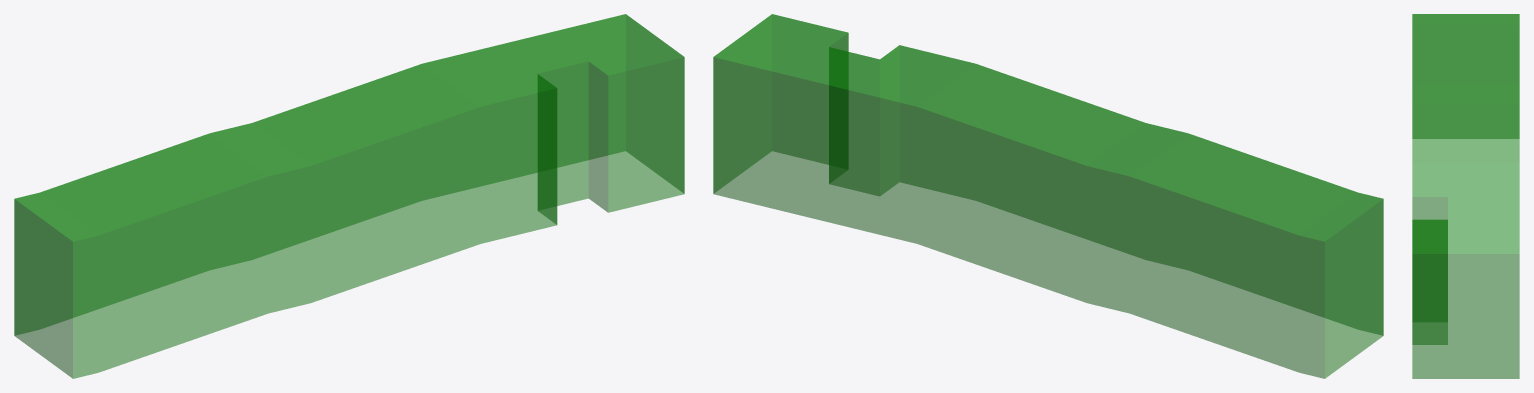
File: air_wall1.obj
3 renders of one model, left to right at view 1: azimuth 30°, elevation 25°; view 2: azimuth 150°, elevation 25°; view 3: azimuth 270°, elevation 25°, orthographic. The views are drawn at different scales.
Size of the model in its own units: 72 by 19.43 by 12.
